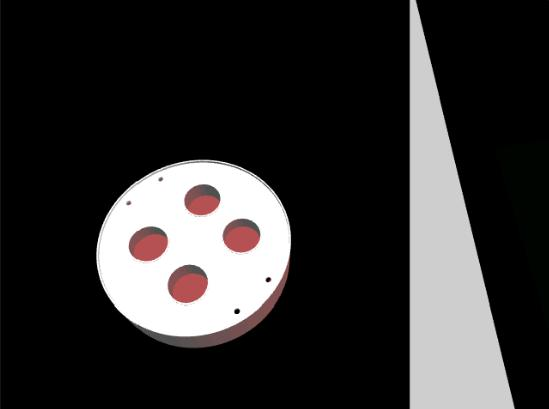hole: (166, 263, 212, 308), (128, 223, 170, 264), (221, 215, 262, 255), (181, 182, 222, 219)
